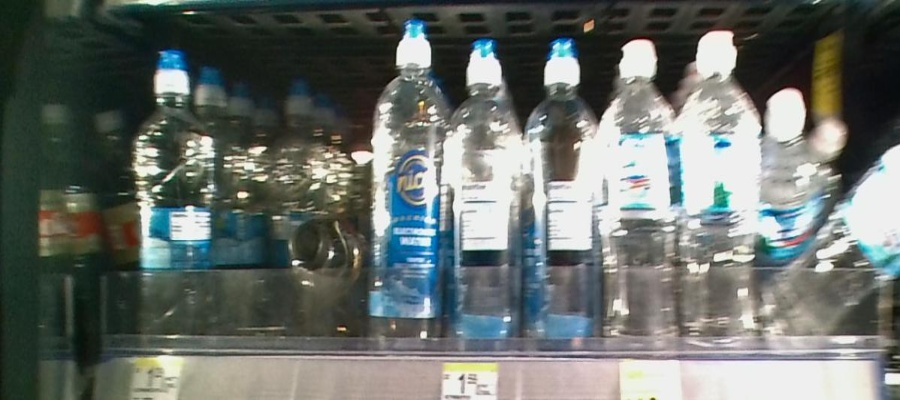bottle: (129, 37, 216, 338), (687, 33, 764, 349), (527, 37, 604, 351), (369, 20, 442, 349), (445, 34, 521, 350), (611, 33, 683, 346), (270, 70, 326, 327)
